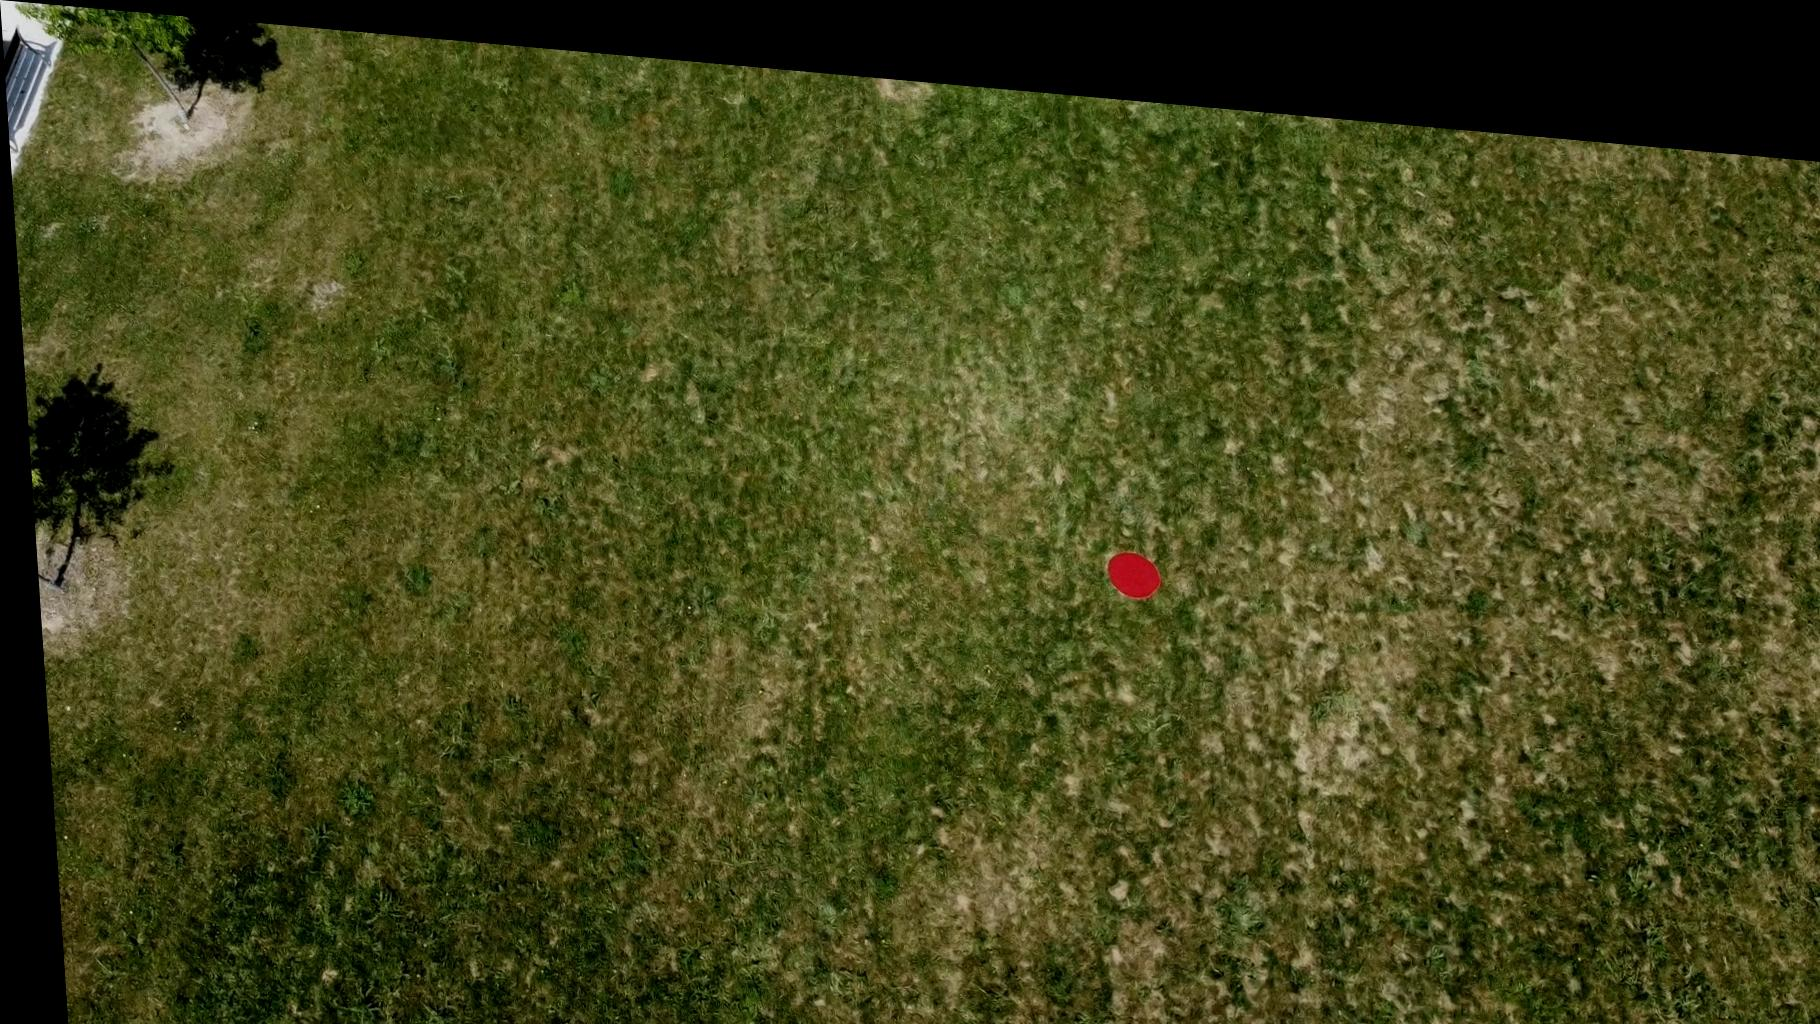Red: (1096, 528, 1160, 583)
